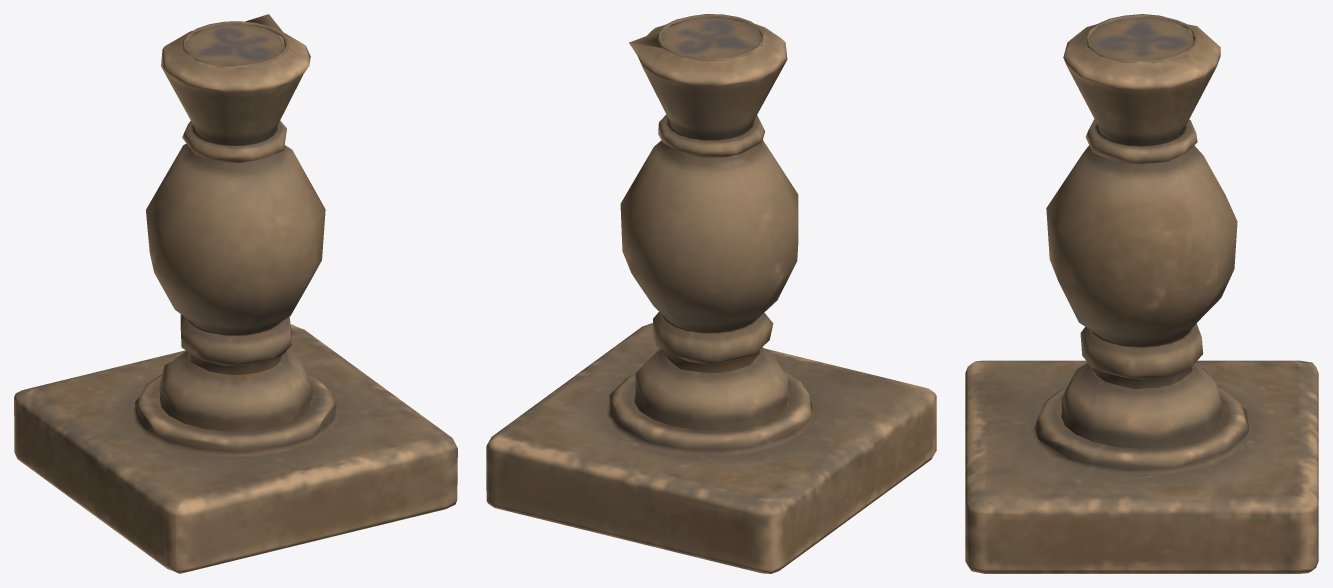
File: SM_Prop_Paper_Weight_A.fbx
3 renders of one model, left to right at view 1: azimuth 30°, elevation 25°; view 2: azimuth 150°, elevation 25°; view 3: azimuth 270°, elevation 25°, orthographic. The views are drawn at different scales.
Parts seen in each view (by area): view 1: SM_Prop_Paper_Weight_A_LOD0; view 2: SM_Prop_Paper_Weight_A_LOD0; view 3: SM_Prop_Paper_Weight_A_LOD0.
Boxes of the visible parts, left/top/right/bottom form: SM_Prop_Paper_Weight_A_LOD0: left=14, top=14, right=457, bottom=573; SM_Prop_Paper_Weight_A_LOD0: left=486, top=14, right=936, bottom=573; SM_Prop_Paper_Weight_A_LOD0: left=965, top=14, right=1318, bottom=573.
Size of the model in its own units: 6.83 by 6.83 by 9.96.
1 material, 1 textured.
